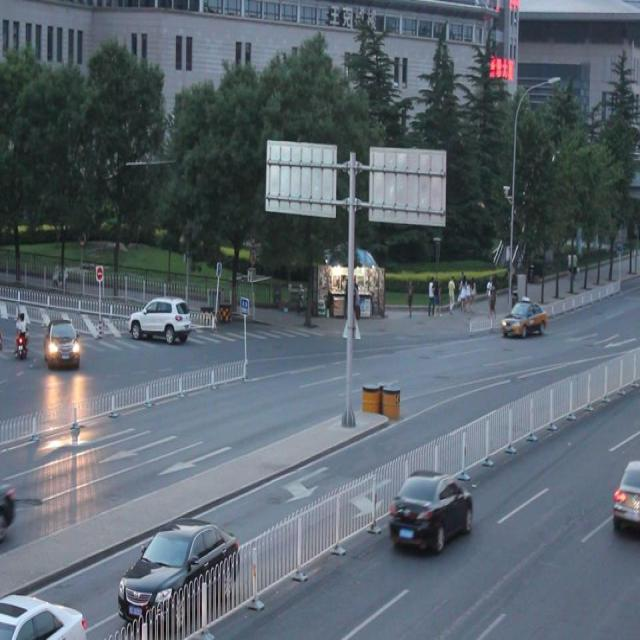car: (115, 514, 239, 618), (389, 463, 472, 555), (1, 589, 88, 640), (128, 293, 190, 343), (608, 457, 640, 533), (46, 316, 80, 368), (500, 299, 546, 335)
